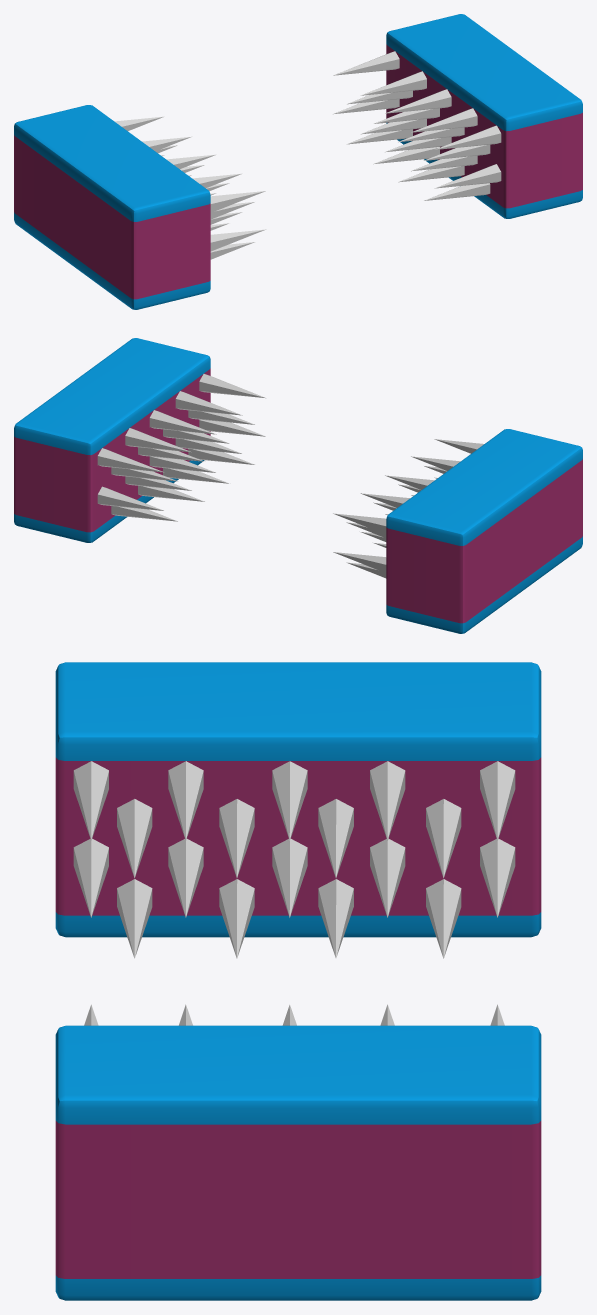
The model's file is _rap_04 (1).fbx.
The picture shows the model from 3 angles, top to bottom: view 1: azimuth 30°, elevation 25°; view 2: azimuth 150°, elevation 25°; view 3: azimuth 270°, elevation 25°; orthographic projection. The views are drawn at different scales.
Parts seen in each view (by area): view 1: trap_04_L, trap_04_R; view 2: trap_04_R, trap_04_L; view 3: trap_04_R, trap_04_L.
Boxes of the visible parts, x1,y1,x2,y2 form: trap_04_L: (14, 105, 266, 309); trap_04_R: (333, 14, 582, 218); trap_04_R: (14, 338, 265, 542); trap_04_L: (333, 429, 582, 633); trap_04_R: (55, 1004, 541, 1300); trap_04_L: (55, 662, 541, 958).
Bounding box in the file's own units: 1520 × 330 × 708.
